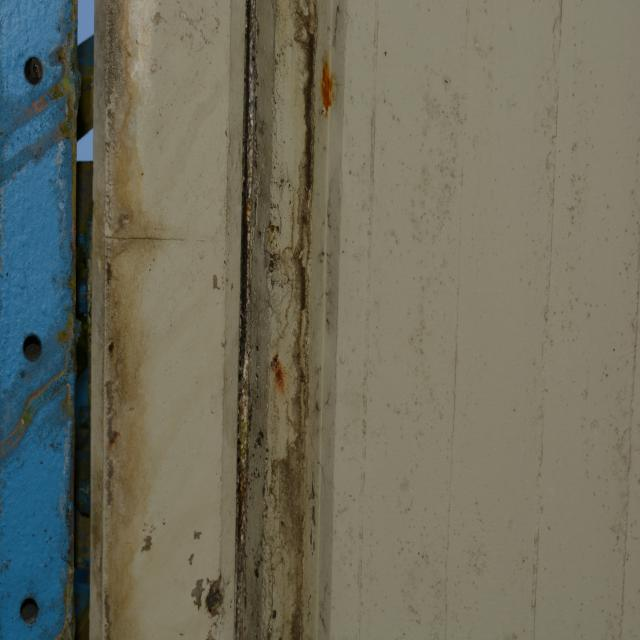corrosion: (0, 0, 340, 629)
